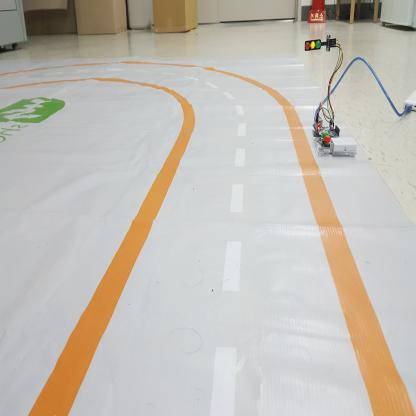traffic-light: (304, 36, 321, 53)
